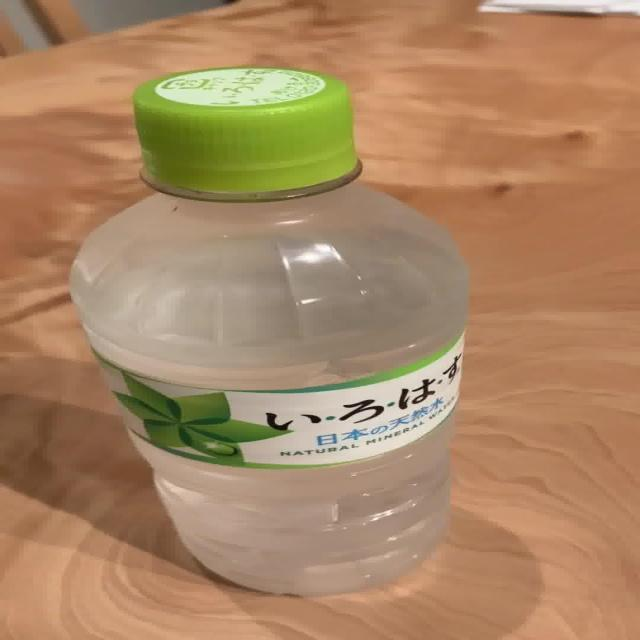good: (64, 63, 474, 601)
